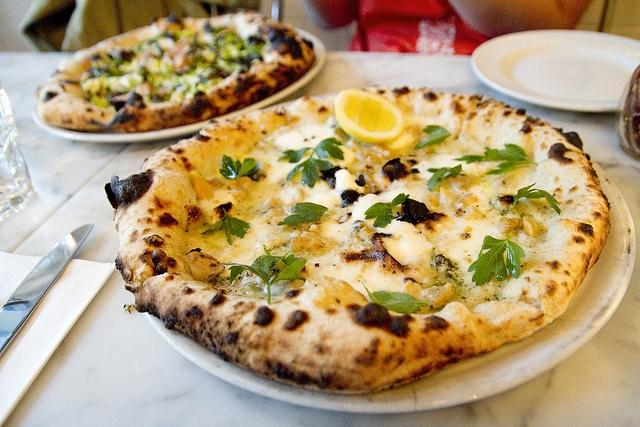lemon: (334, 88, 404, 144)
